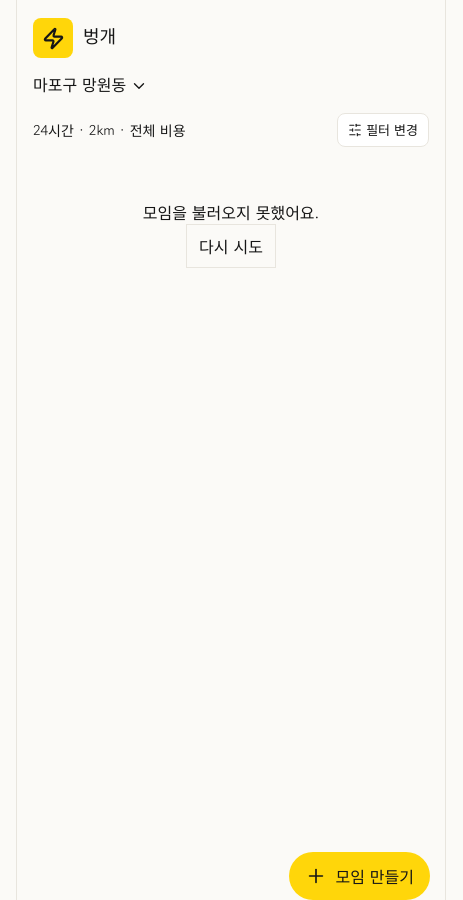
Test: authenticated discovery API › offers problem retry and preserves the server empty state
Expected: the message shows "모임을 불러오지 못했어요", [143,200,319,224]
Click the button "다시 시도" at (231, 246), box [186,224,276,268]
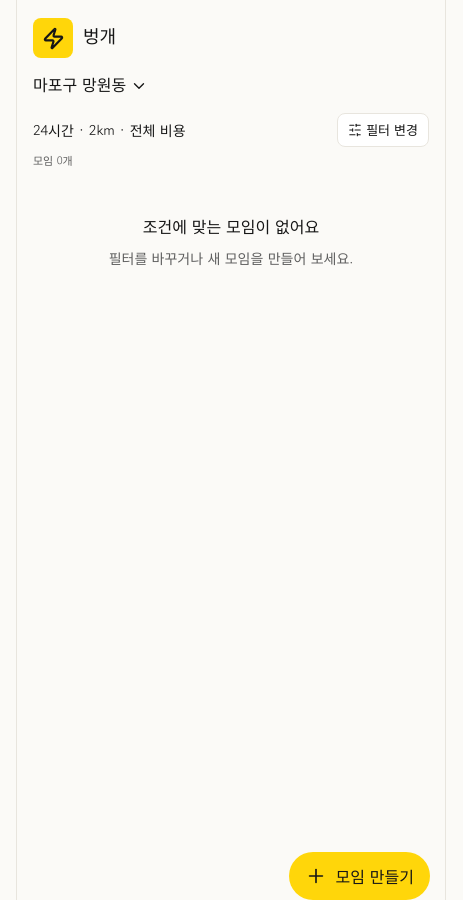
Result: the message shows "조건에 맞는 모임이 없어요" at [143,220,319,236]
